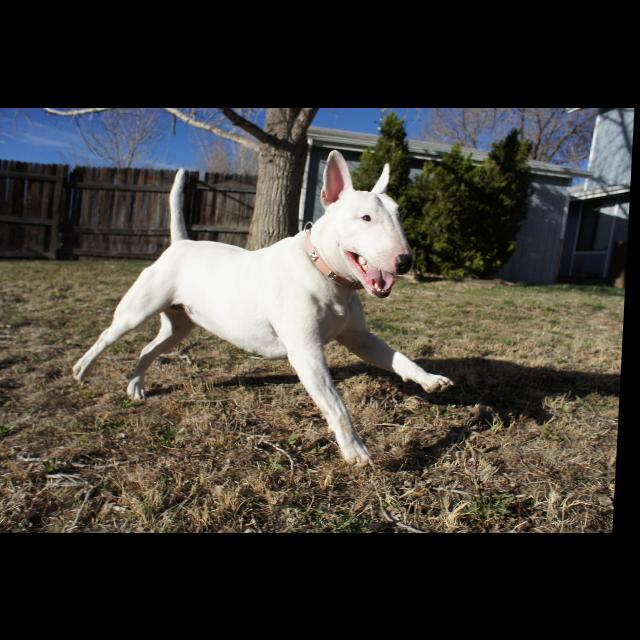bullterrier: (73, 150, 470, 468)
